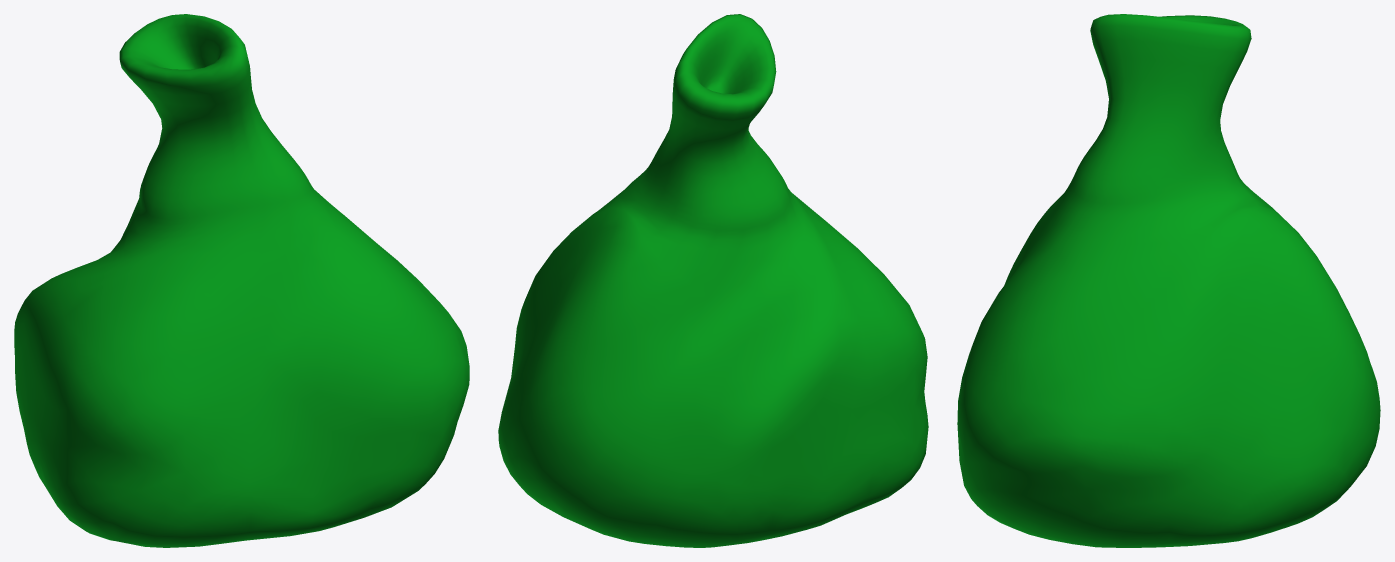
Rendered from Trash.fbx.
3 views of the same model, side by side, from view 1: azimuth 30°, elevation 25°; view 2: azimuth 150°, elevation 25°; view 3: azimuth 270°, elevation 25° (orthographic). The views are drawn at different scales.
Parts seen in each view (by area): view 1: Icosphere; view 2: Icosphere; view 3: Icosphere.
Boxes of the visible parts, x1,y1,x2,y2 form: Icosphere: (14, 14, 469, 547); Icosphere: (498, 14, 928, 547); Icosphere: (957, 14, 1380, 547).
Size of the model in its own units: 188 by 221 by 177.
